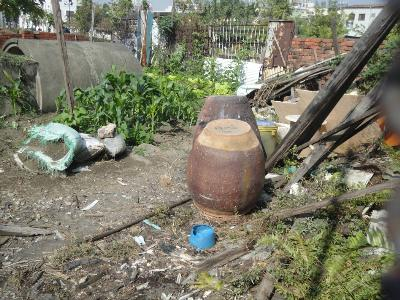bowl: (187, 119, 267, 221), (187, 224, 216, 251)
